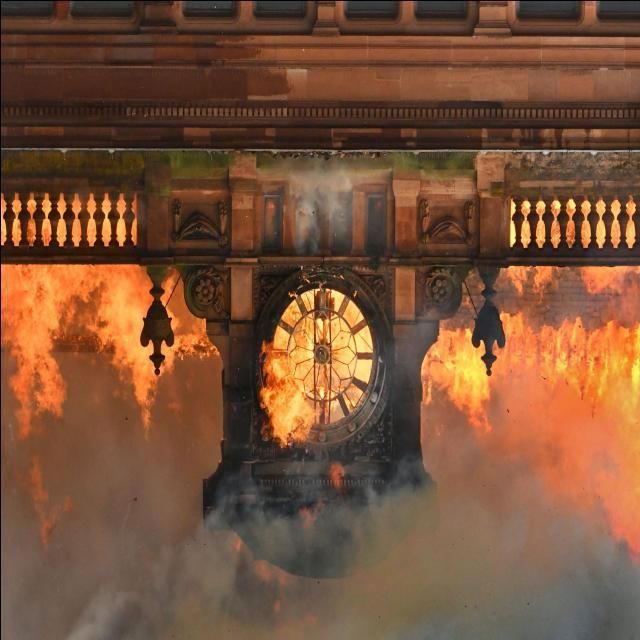Fire: (0, 166, 635, 550)
